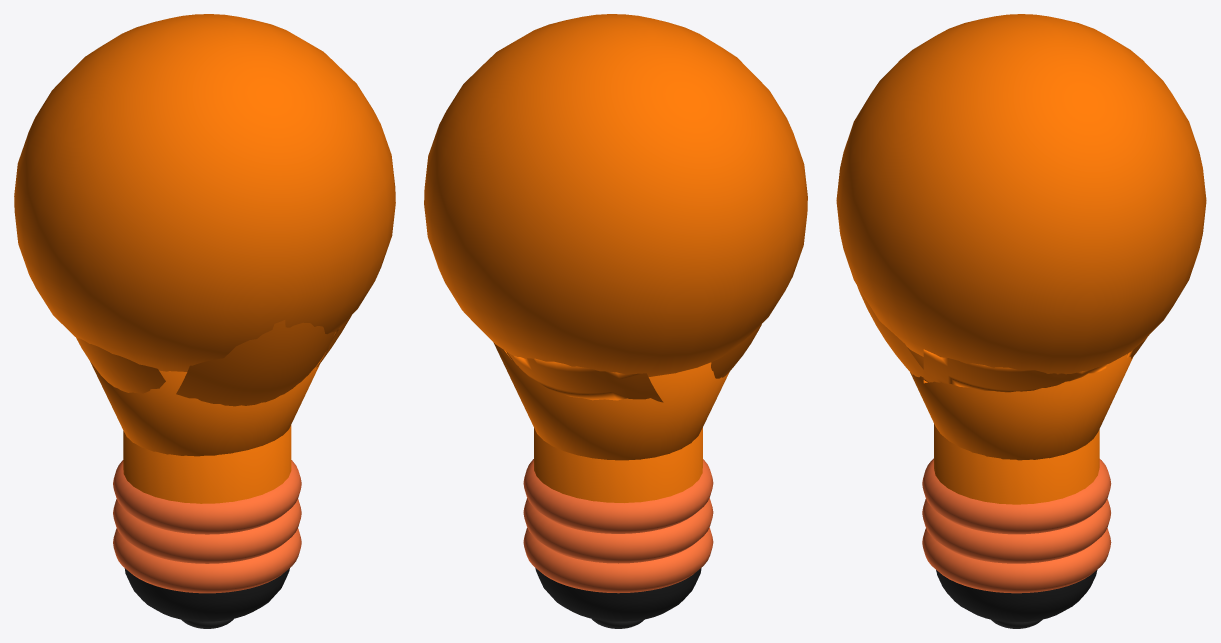
The model's file is LightBulb.fbx.
The picture shows the model from 3 angles, left to right: view 1: azimuth 30°, elevation 25°; view 2: azimuth 150°, elevation 25°; view 3: azimuth 270°, elevation 25°; orthographic projection.
Parts seen in each view (by area): view 1: ampoule.001; view 2: ampoule.001; view 3: ampoule.001.
Part boxes in pixels (box(x1,y1,x2,y2)): ampoule.001: box(14, 14, 395, 628); ampoule.001: box(424, 14, 807, 628); ampoule.001: box(836, 14, 1206, 628).
Bounding box in the file's own units: 27.7 × 46.61 × 26.43.
